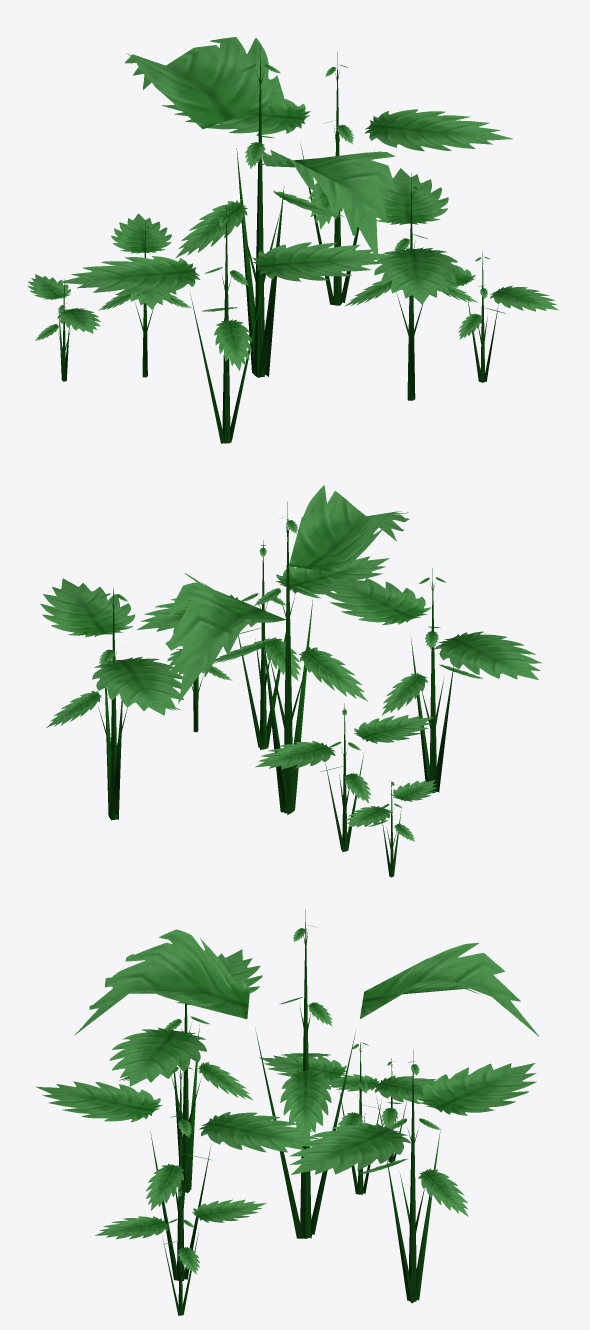
File: Nettle Leaves.glb
3 views of the same model, one above another, from view 1: azimuth 30°, elevation 25°; view 2: azimuth 150°, elevation 25°; view 3: azimuth 270°, elevation 25° (orthographic). The views are drawn at different scales.
Visible parts, largest first — view 1: Nettle Leaves; view 2: Nettle Leaves; view 3: Nettle Leaves.
Part boxes in pixels (x1,y1,x2,y2): Nettle Leaves: (27,37,558,443); Nettle Leaves: (40,485,541,877); Nettle Leaves: (36,909,538,1315).
Bounding box in the file's own units: 1.5 × 0.9 × 1.39.
1 material, 1 textured.
